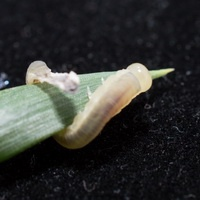insect: (0, 61, 173, 161)
